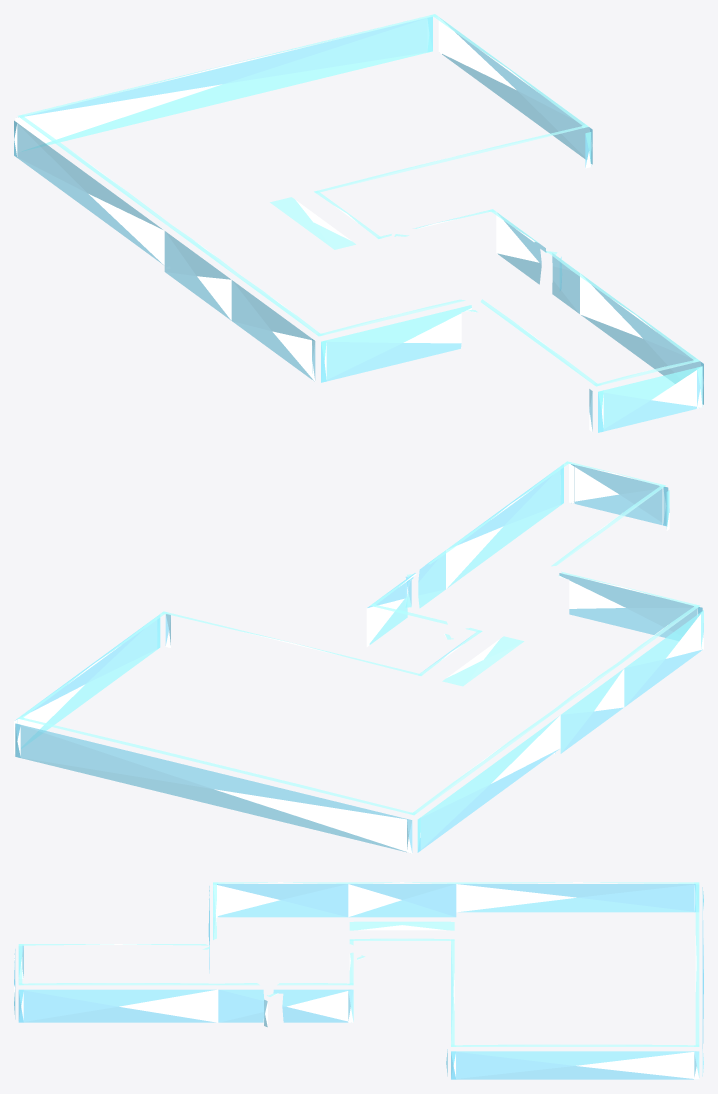
Rendered from h18_crystal_chute.fbx.
The picture shows the model from 3 angles, top to bottom: view 1: azimuth 30°, elevation 25°; view 2: azimuth 150°, elevation 25°; view 3: azimuth 270°, elevation 25°; orthographic projection. The views are drawn at different scales.
Parts seen in each view (by area): view 1: h18_crystal_chute__Ice, h18_crystal_chute__IceCore; view 2: h18_crystal_chute__Ice, h18_crystal_chute__IceCore; view 3: h18_crystal_chute__Ice, h18_crystal_chute__IceCore.
Boxes of the visible parts, <box> form: h18_crystal_chute__Ice: <box>14,14,703,432</box>; h18_crystal_chute__IceCore: <box>14,18,703,431</box>; h18_crystal_chute__Ice: <box>15,461,703,852</box>; h18_crystal_chute__IceCore: <box>14,464,703,853</box>; h18_crystal_chute__Ice: <box>14,882,703,1079</box>; h18_crystal_chute__IceCore: <box>14,882,703,1079</box>.
Bounding box in the file's own units: 36.84 × 3.82 × 63.84.
